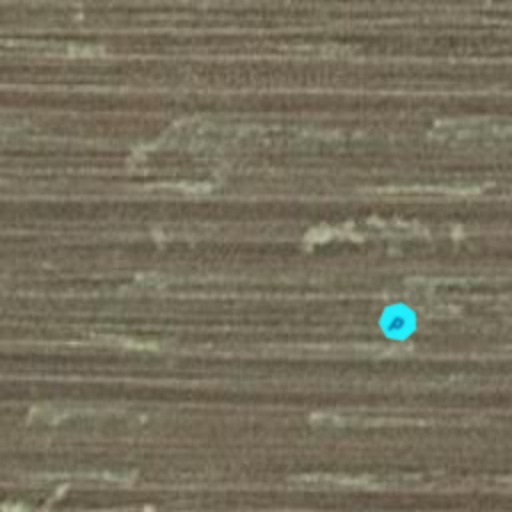heptagon: (372, 296, 424, 348)
